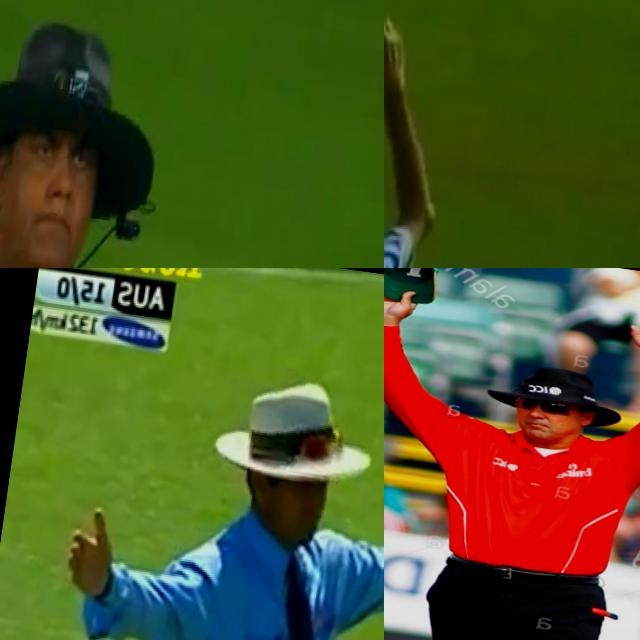No_Ball: (0, 0, 384, 268)
Six: (384, 268, 640, 640), (384, 0, 482, 268)
Wide: (38, 333, 384, 640)
